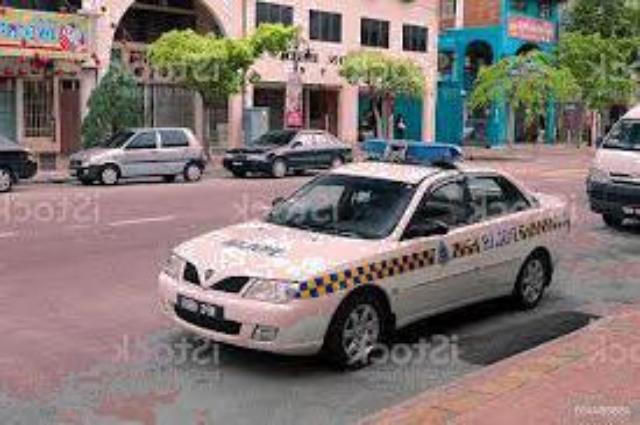police: (156, 140, 570, 358)
